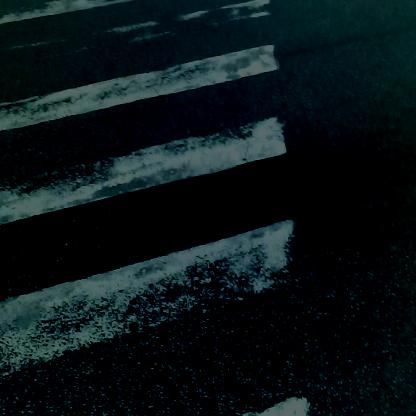crosswalk: (3, 7, 329, 416)
